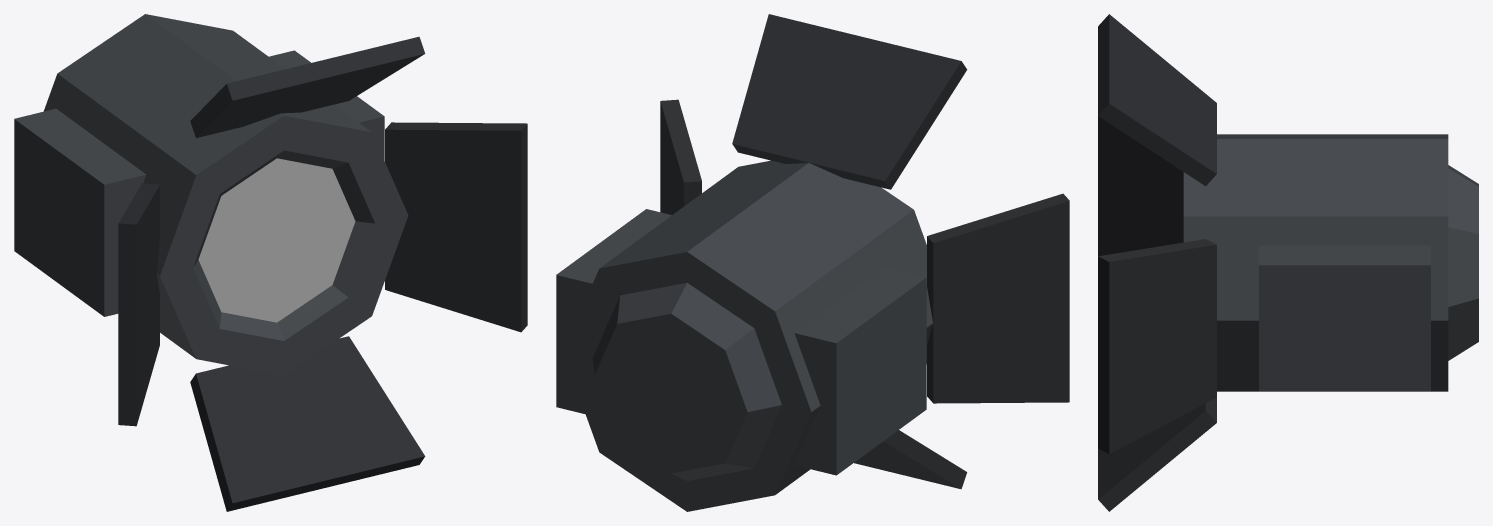
Rendered from SM_Icon_Light_Spotlight_01.fbx.
3 renders of one model, left to right at view 1: azimuth 30°, elevation 25°; view 2: azimuth 150°, elevation 25°; view 3: azimuth 270°, elevation 25°, orthographic. The views are drawn at different scales.
Parts seen in each view (by area): view 1: SM_Icon_Light_Spotlight_01; view 2: SM_Icon_Light_Spotlight_01; view 3: SM_Icon_Light_Spotlight_01.
Boxes of the visible parts, x1,y1,x2,y2 form: SM_Icon_Light_Spotlight_01: (14, 14, 527, 511); SM_Icon_Light_Spotlight_01: (556, 14, 1069, 511); SM_Icon_Light_Spotlight_01: (1098, 14, 1478, 511).
Bounding box in the file's own units: 52.67 × 52.67 × 44.51.
